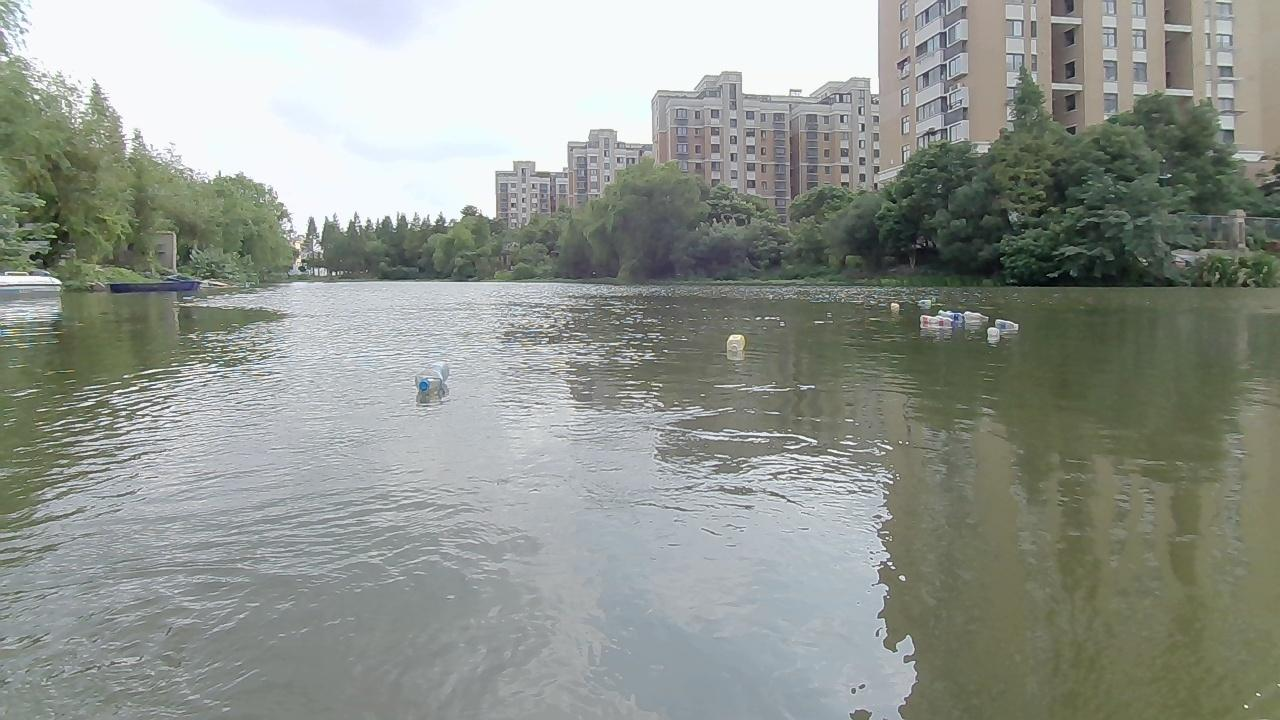bottle: (406, 354, 451, 397), (723, 330, 744, 356), (990, 317, 1020, 332), (921, 314, 950, 327), (958, 310, 983, 324), (986, 324, 1001, 345), (941, 307, 958, 325), (890, 302, 901, 313), (918, 299, 928, 309)
